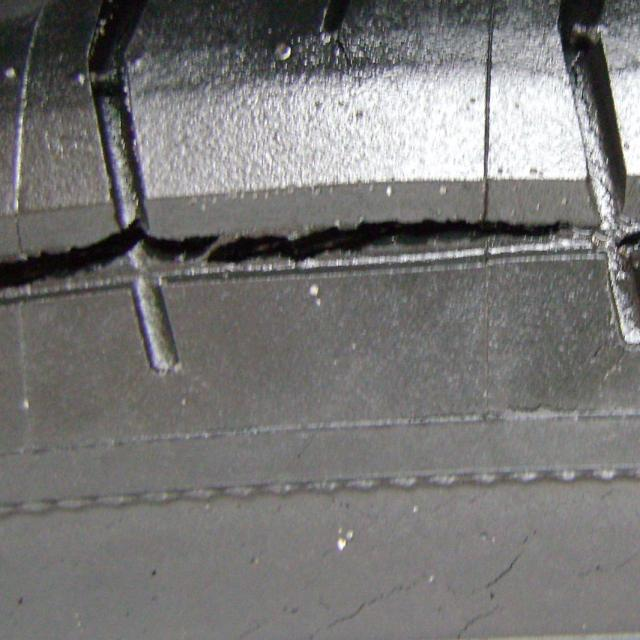Cracks: (0, 197, 639, 309), (224, 498, 568, 640)
